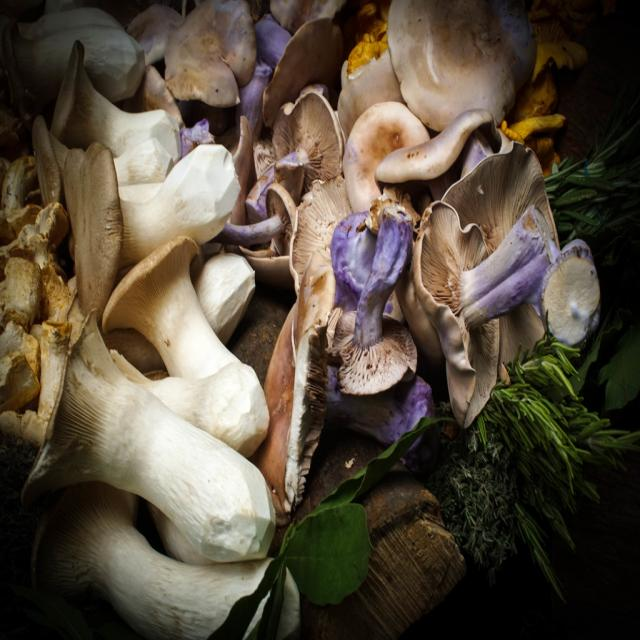Mushroom: (0, 0, 599, 639)
